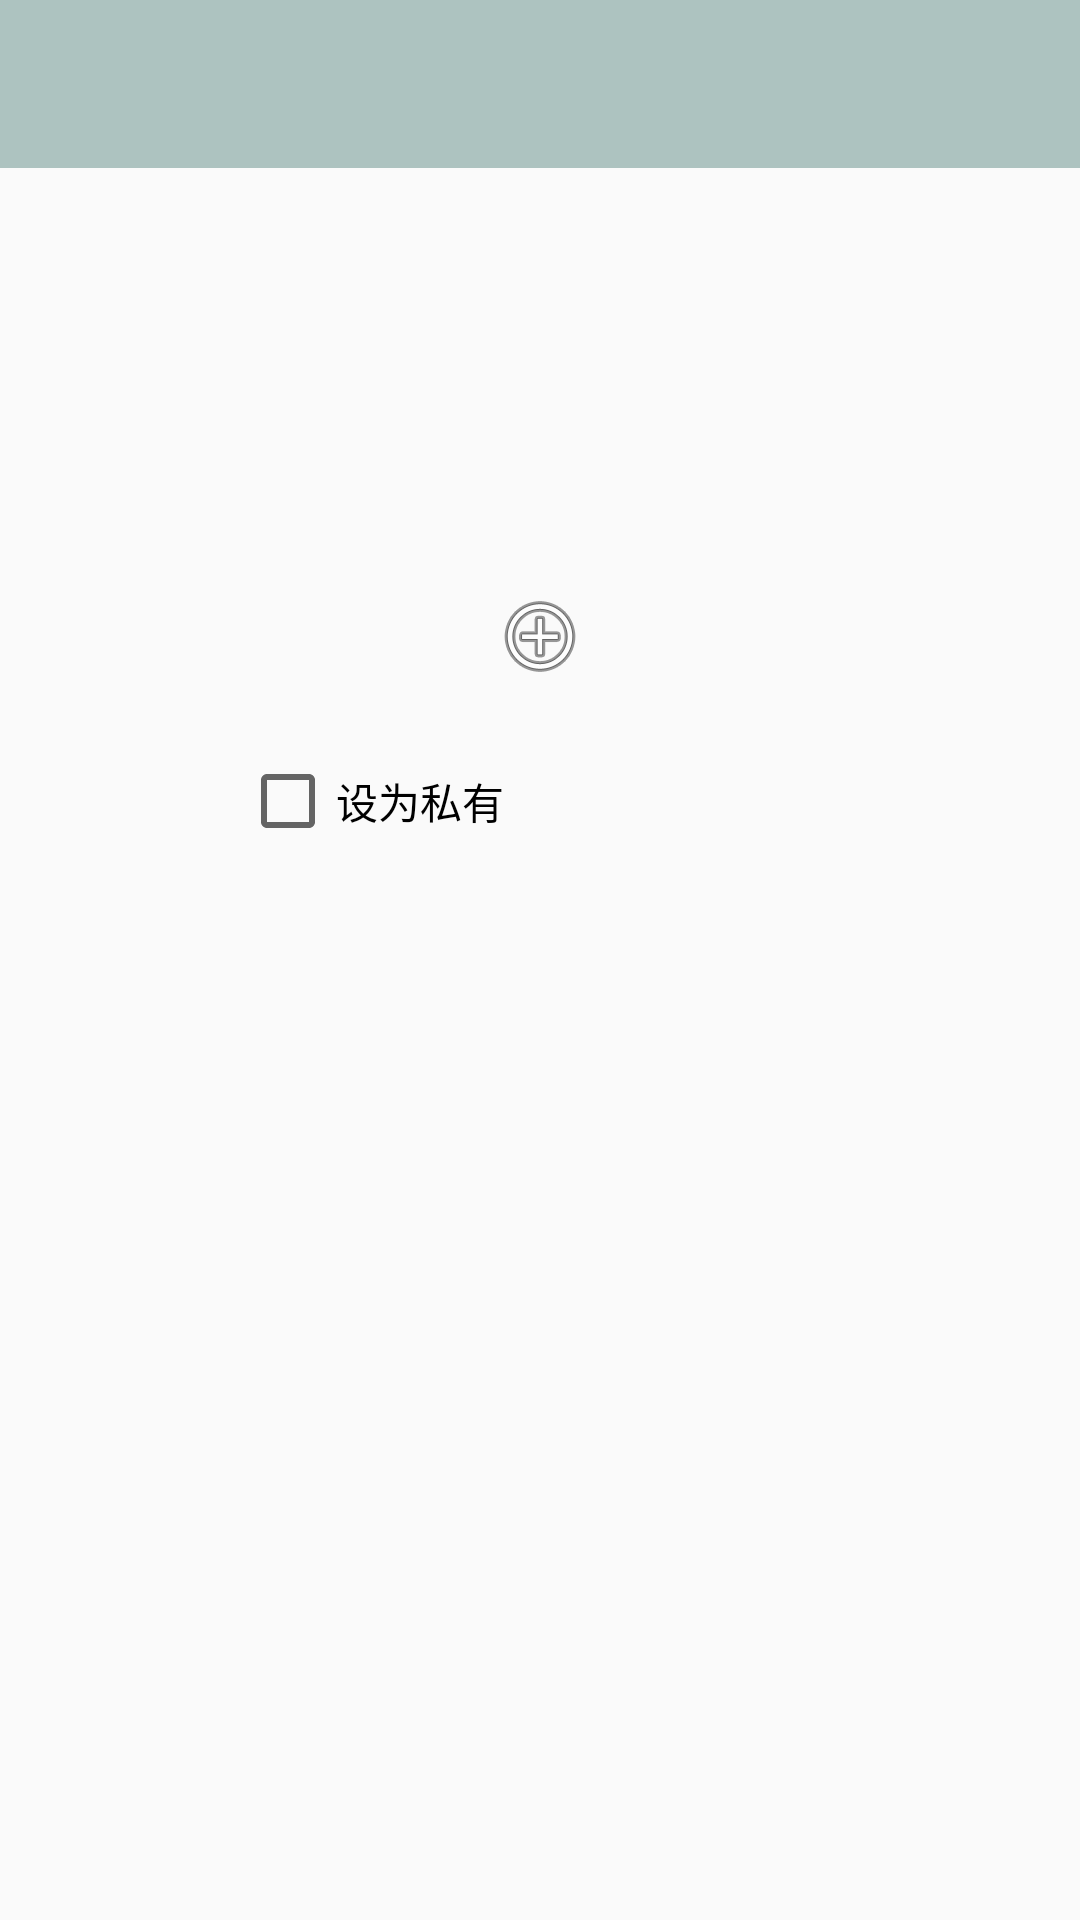

Where to tap for icons on this 1080w x 1920h app screen, as (x=x, y=y):
add: (x=540, y=636)
